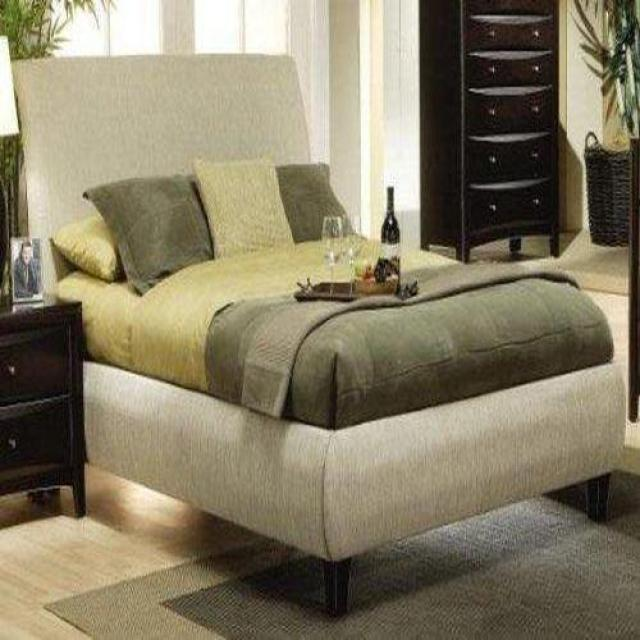bed: (10, 54, 626, 566)
